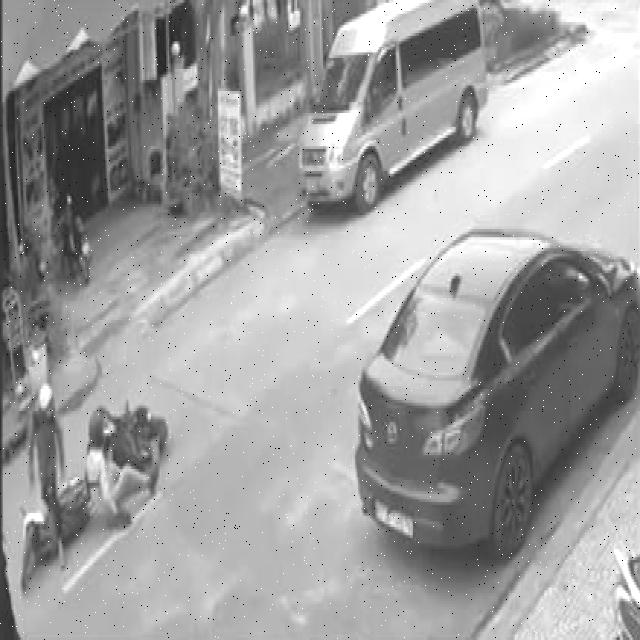accident: (15, 368, 172, 600)
